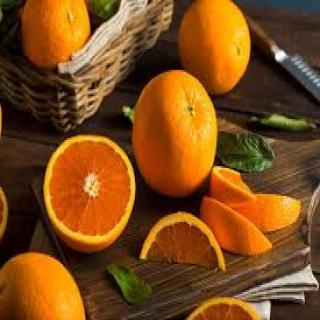orange: (41, 109, 136, 263), (128, 65, 226, 210), (173, 0, 255, 92), (130, 208, 226, 286), (11, 0, 93, 80)
